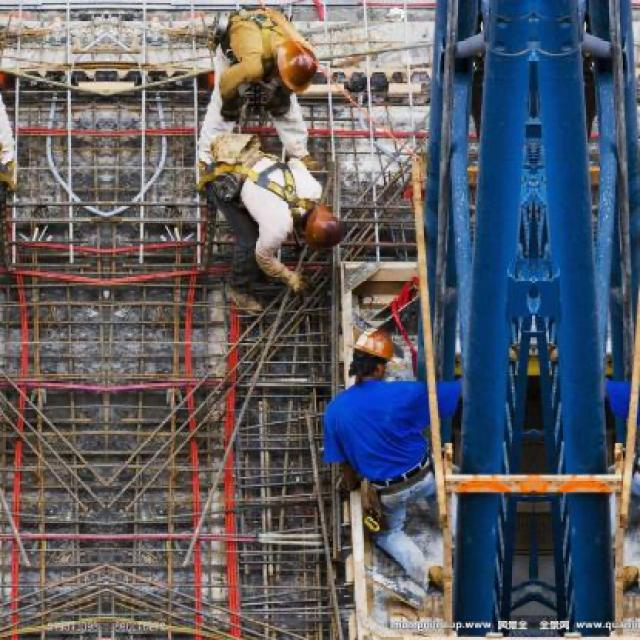helmet: (347, 324, 399, 382), (274, 38, 322, 94), (301, 203, 344, 255)
